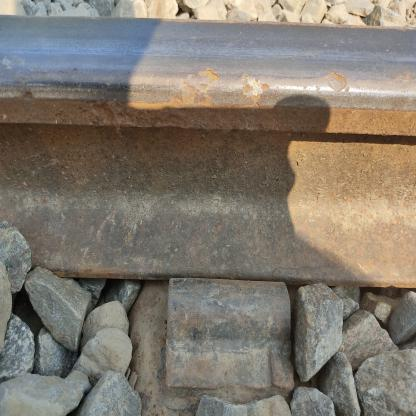Defective 1: (144, 260, 310, 408)
